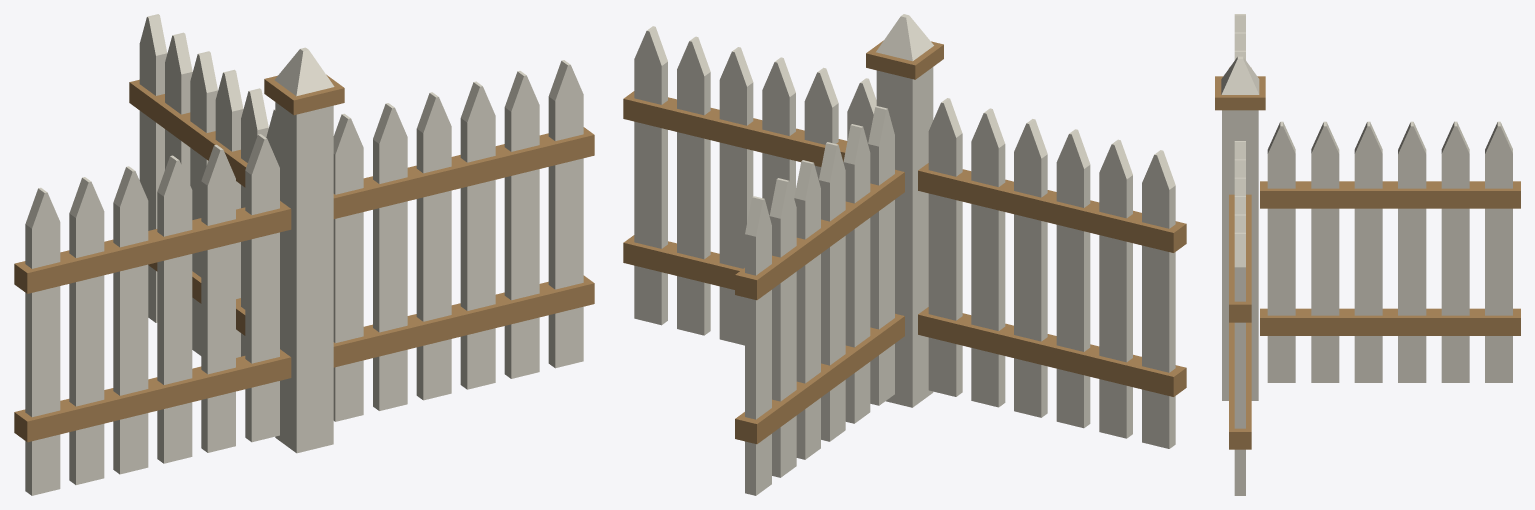
Rendered from picket_tee.glb.
The picture shows the model from 3 angles, left to right: view 1: azimuth 30°, elevation 25°; view 2: azimuth 150°, elevation 25°; view 3: azimuth 270°, elevation 25°; orthographic projection. The views are drawn at different scales.
Parts seen in each view (by area): view 1: fence_picket_tee; view 2: fence_picket_tee; view 3: fence_picket_tee.
Part boxes in pixels (x1,y1,x2,y2): fence_picket_tee: (14,14,594,495); fence_picket_tee: (623,14,1186,495); fence_picket_tee: (1215,14,1520,495).
Bounding box in the file's own units: 2 × 1.32 × 1.09.
